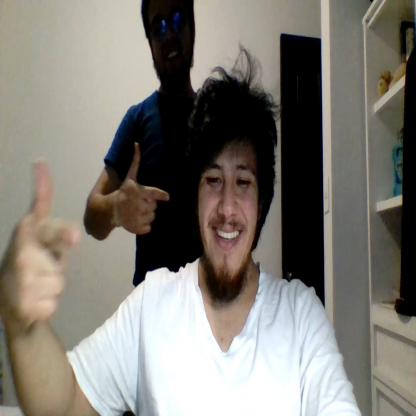G: (118, 141, 170, 235)
